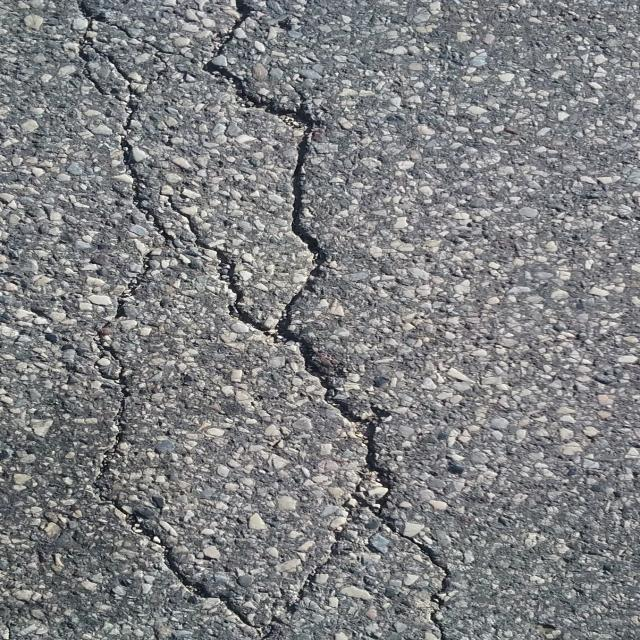Crack: (73, 0, 455, 640), (87, 301, 290, 640), (285, 476, 362, 616)
